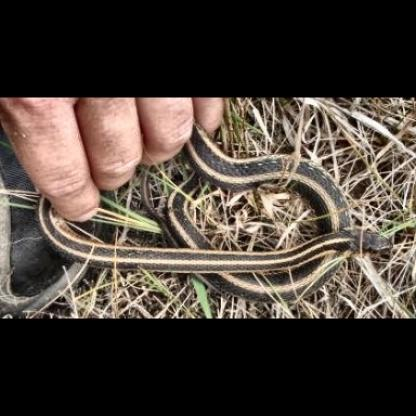Snake: (36, 198, 398, 304)
